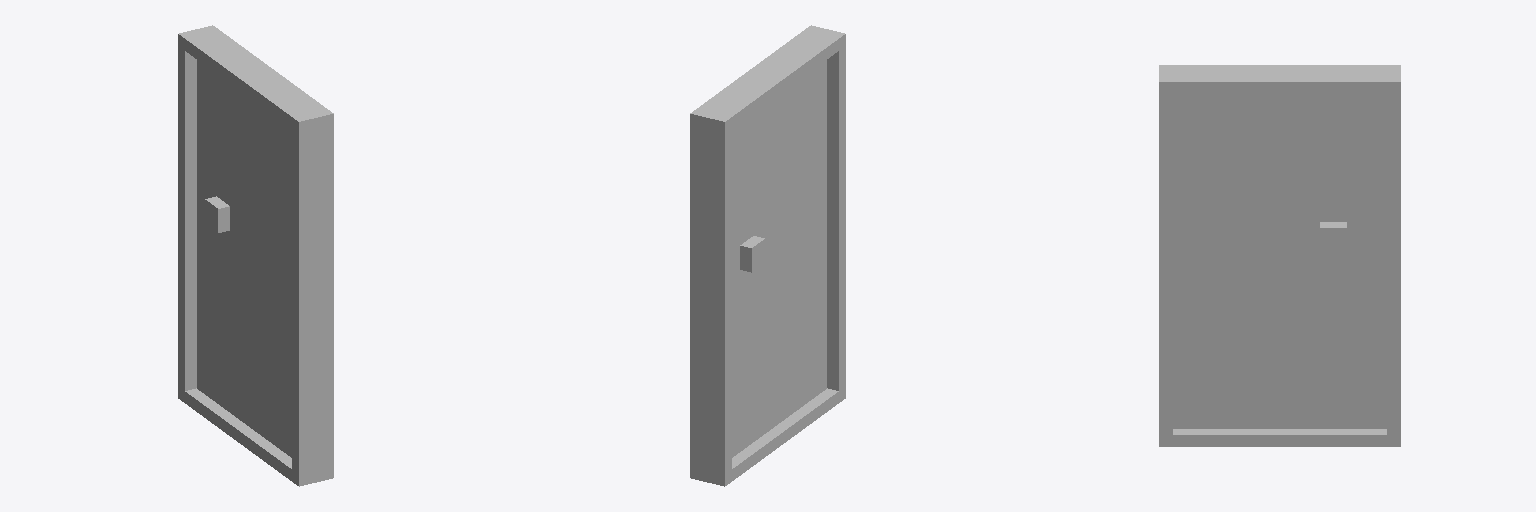
The model's file is Door.obj.
3 views of the same model, side by side, from view 1: azimuth 30°, elevation 25°; view 2: azimuth 150°, elevation 25°; view 3: azimuth 270°, elevation 25° (orthographic).
Visible parts, largest first — view 1: object 1; view 2: object 1; view 3: object 1.
Part boxes in pixels (left/top/right/bottom): object 1: left=178, top=25, right=333, bottom=486; object 1: left=690, top=25, right=845, bottom=486; object 1: left=1159, top=65, right=1400, bottom=446.
Bounding box in the file's own units: 0.3 × 3 × 1.8.